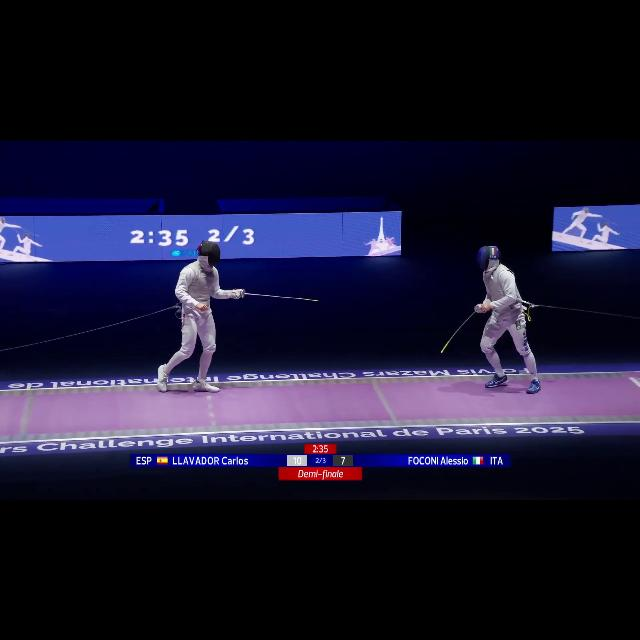blade: (438, 302, 484, 356), (235, 286, 329, 308)
